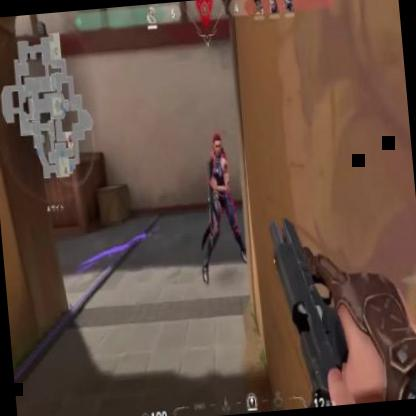enemy: (187, 128, 252, 286)
enemy_head: (210, 131, 225, 159)
